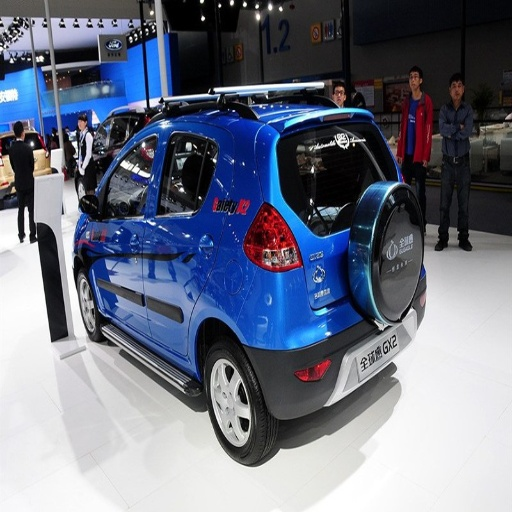back_bumper: (228, 267, 392, 421)
back_glass: (278, 121, 377, 204)
back_left_door: (143, 127, 213, 350)
tailgate: (349, 234, 411, 319)
trunk: (291, 185, 395, 310)
